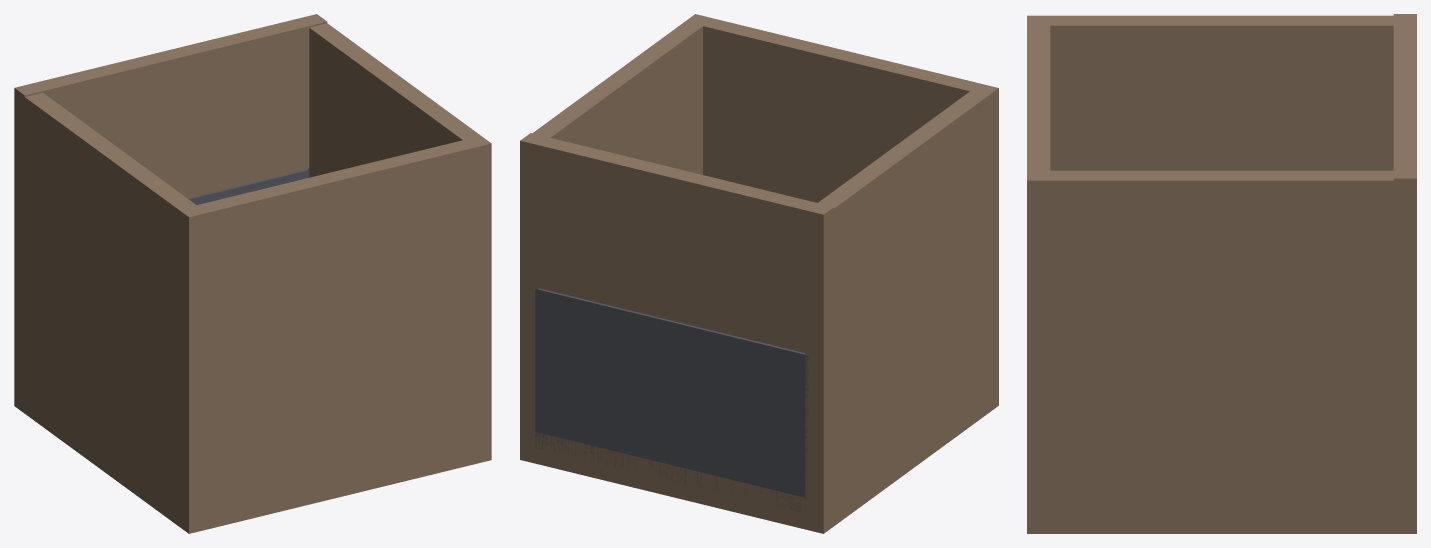
The model's file is build_crate.glb.
3 views of the same model, side by side, from view 1: azimuth 30°, elevation 25°; view 2: azimuth 150°, elevation 25°; view 3: azimuth 270°, elevation 25° (orthographic). The views are drawn at different scales.
Parts seen in each view (by area): view 1: Baked, _MeshInstance3D_548; view 2: Baked, _MeshInstance3D_548; view 3: Baked.
Part boxes in pixels (box(x1,y1,x2,y2)): Baked: box(14, 14, 491, 533); _MeshInstance3D_548: box(188, 169, 309, 204); Baked: box(520, 14, 998, 533); _MeshInstance3D_548: box(535, 288, 808, 512); Baked: box(1027, 14, 1416, 533).
Bounding box in the file's own units: 1 × 1 × 1.
